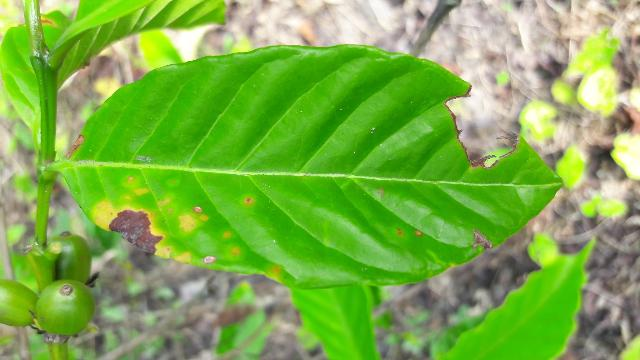rust_level_2: (59, 44, 567, 289)
